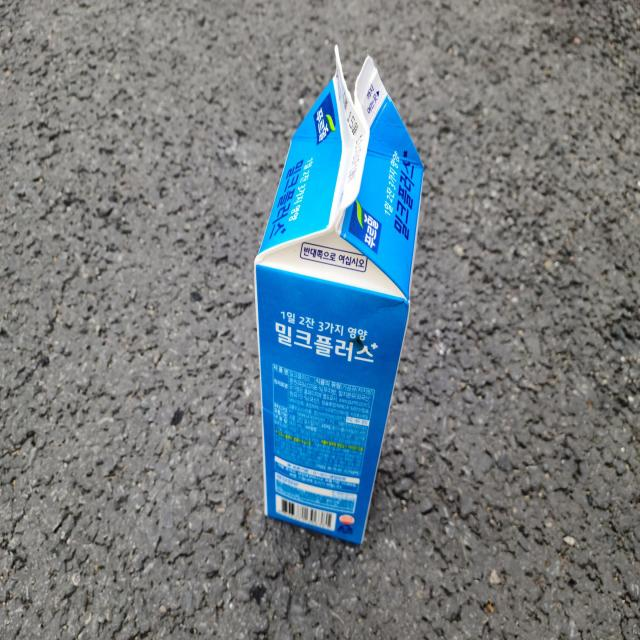paperpack: (256, 45, 424, 544)
